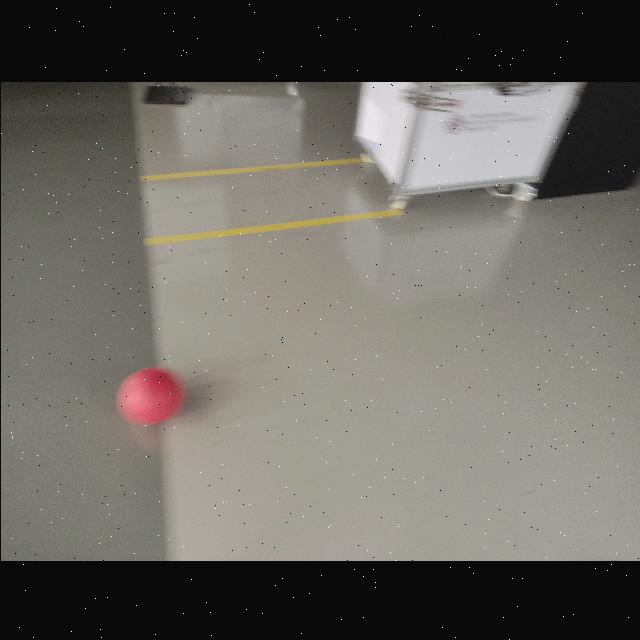R: (118, 358, 186, 424)
